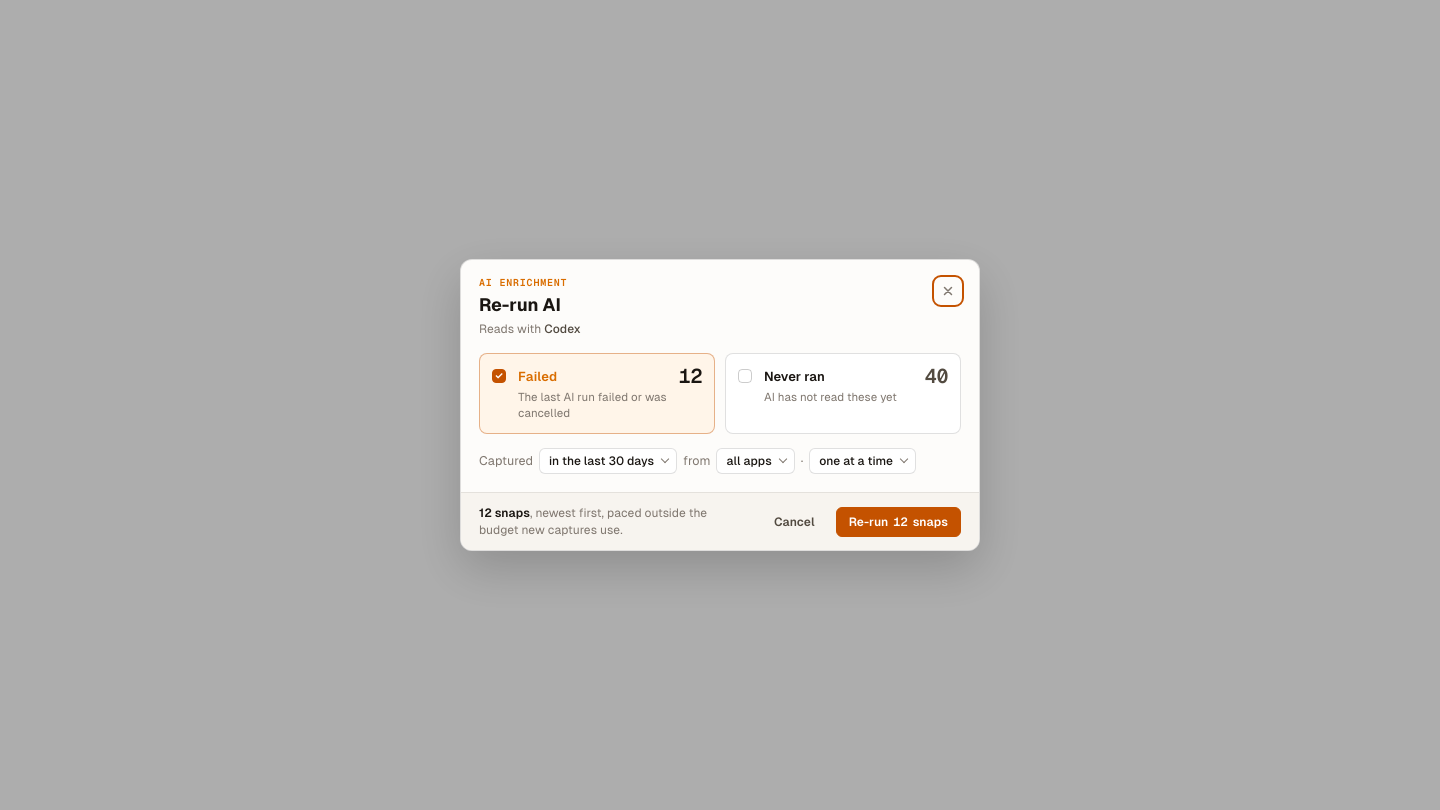
Test: EnrichmentRepairDialog — set up › picking apps narrows the batch; ⌥-click excludes
Step 1. Click the button "all apps" → {"x": 756, "y": 462}, box [716,448,795,474]
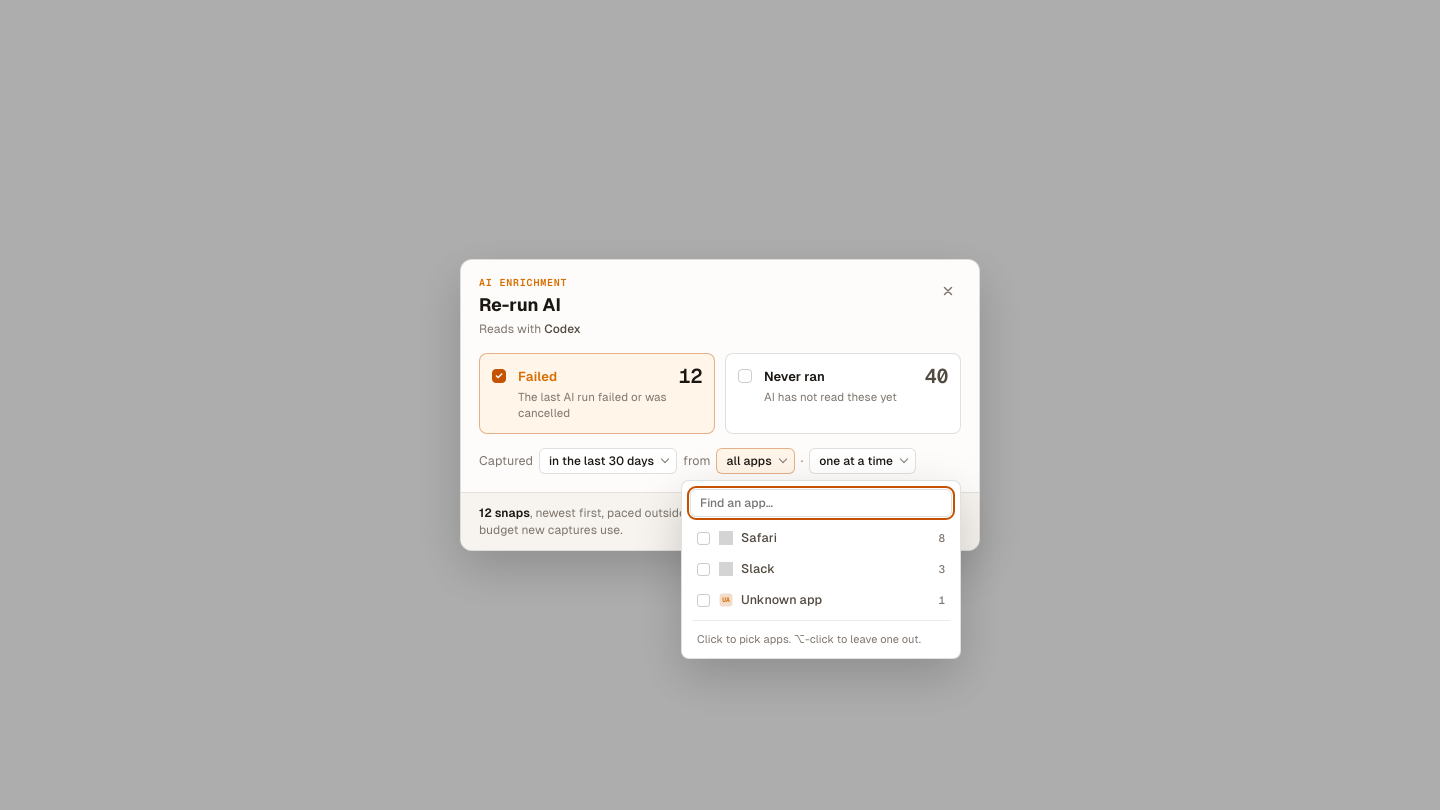
Expected: the text "Unknown app" is shown, [741,592,822,607]
Step 2. Click the button "Safari 8" → {"x": 759, "y": 538}, box [688,524,954,554]
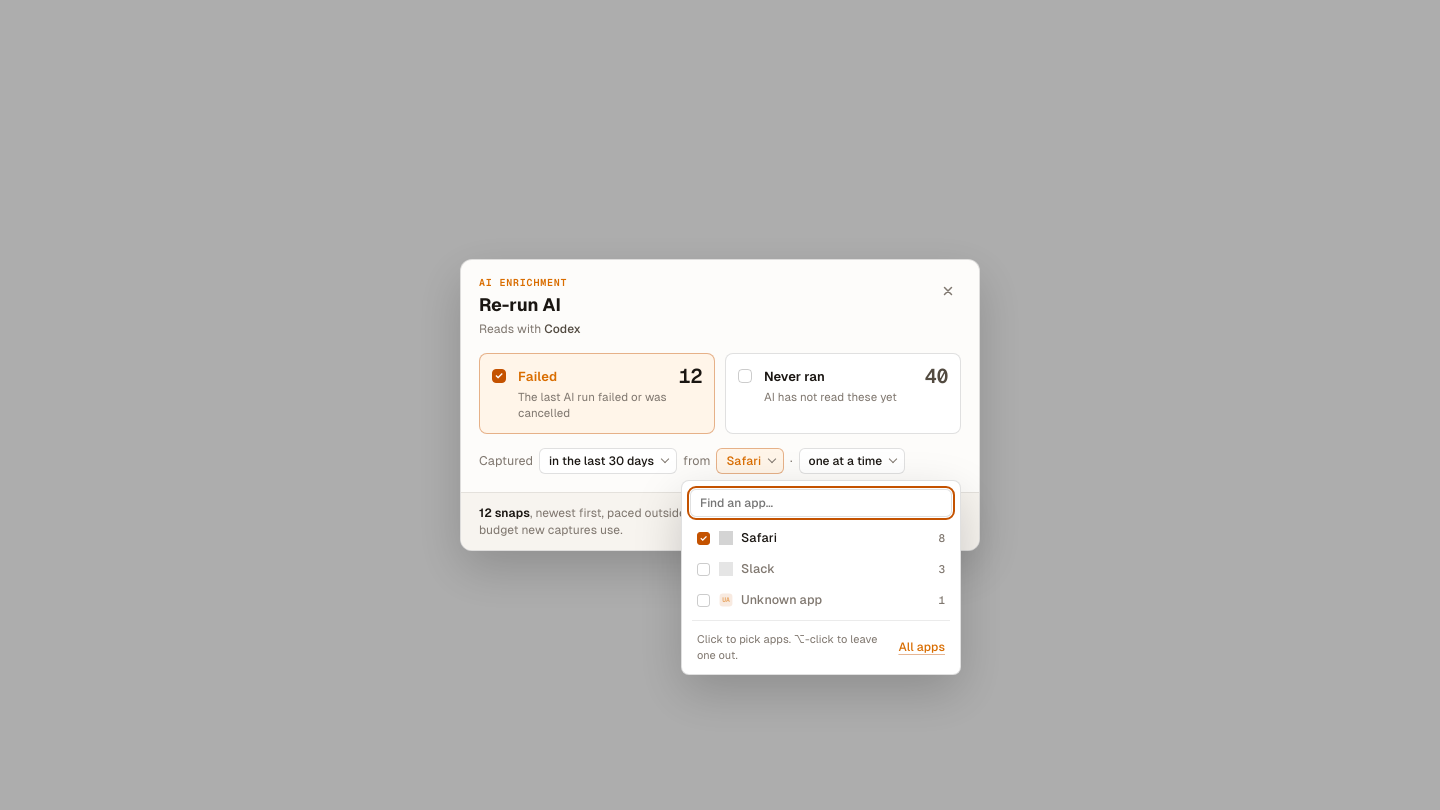
Step 3. Click the button "Slack 3" → {"x": 758, "y": 569}, box [688,554,954,584]
Wait 200 ms
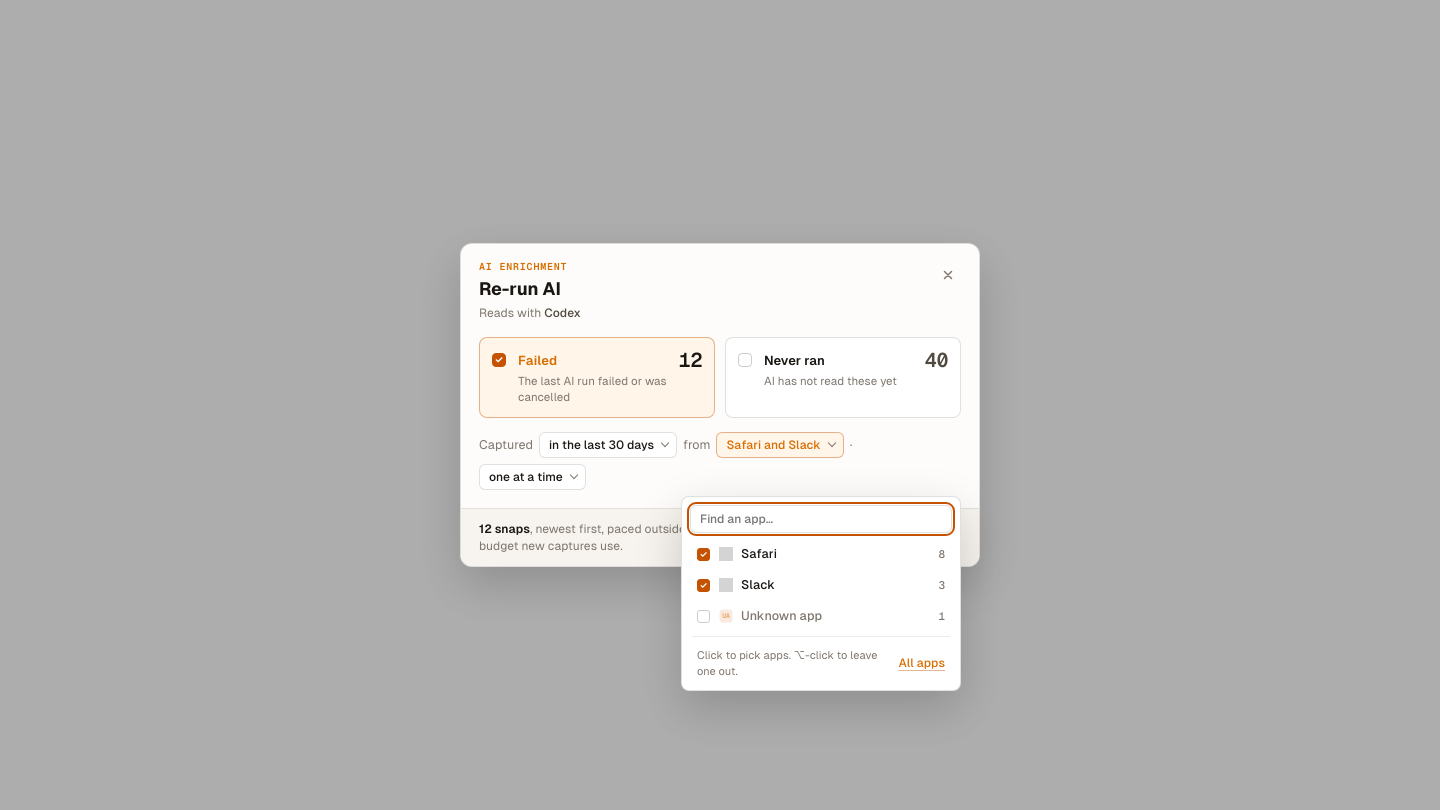
Expected: the button "Safari and Slack" is shown, [716,432,844,458]
Step 4. Click the button "✓ Slack 3" → {"x": 758, "y": 585}, box [688,570,954,600]
Wait 200 ms
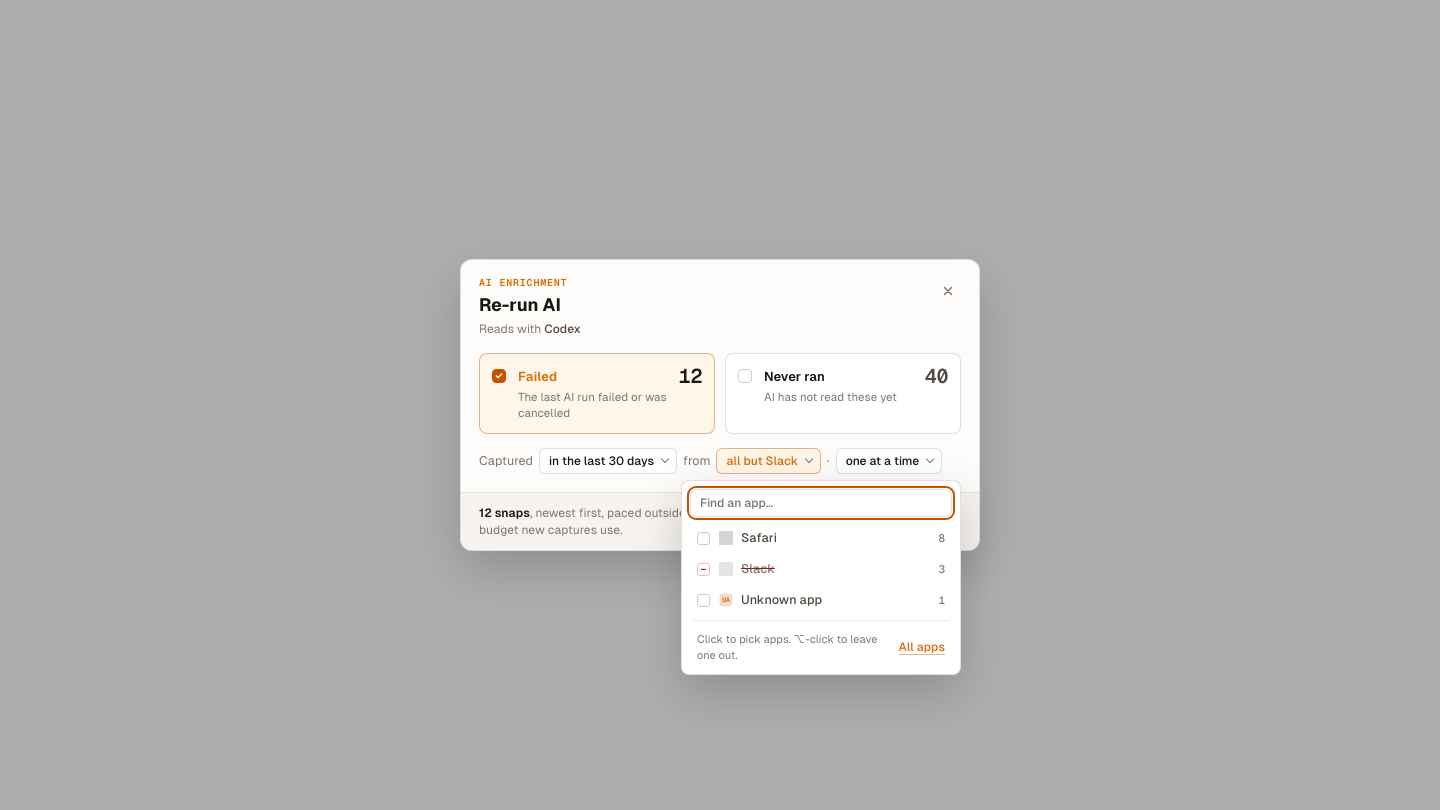
Expected: the button "all but Slack" is shown, [716,448,821,474]
